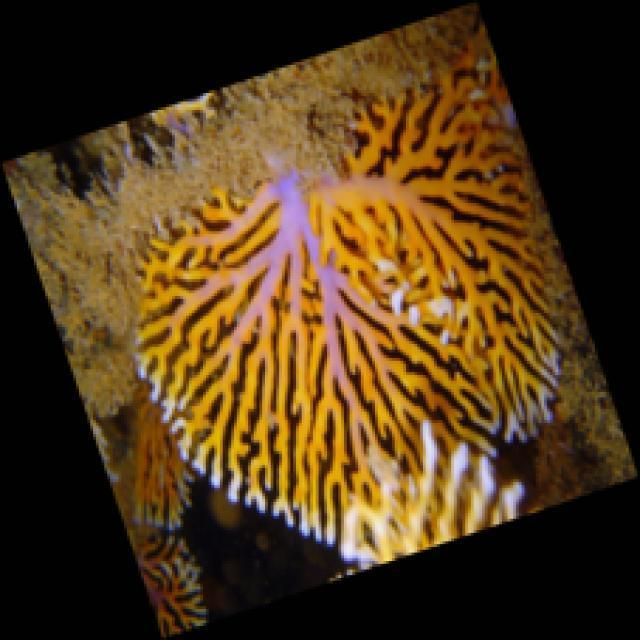Healthy: (135, 43, 566, 540), (337, 429, 526, 574)
